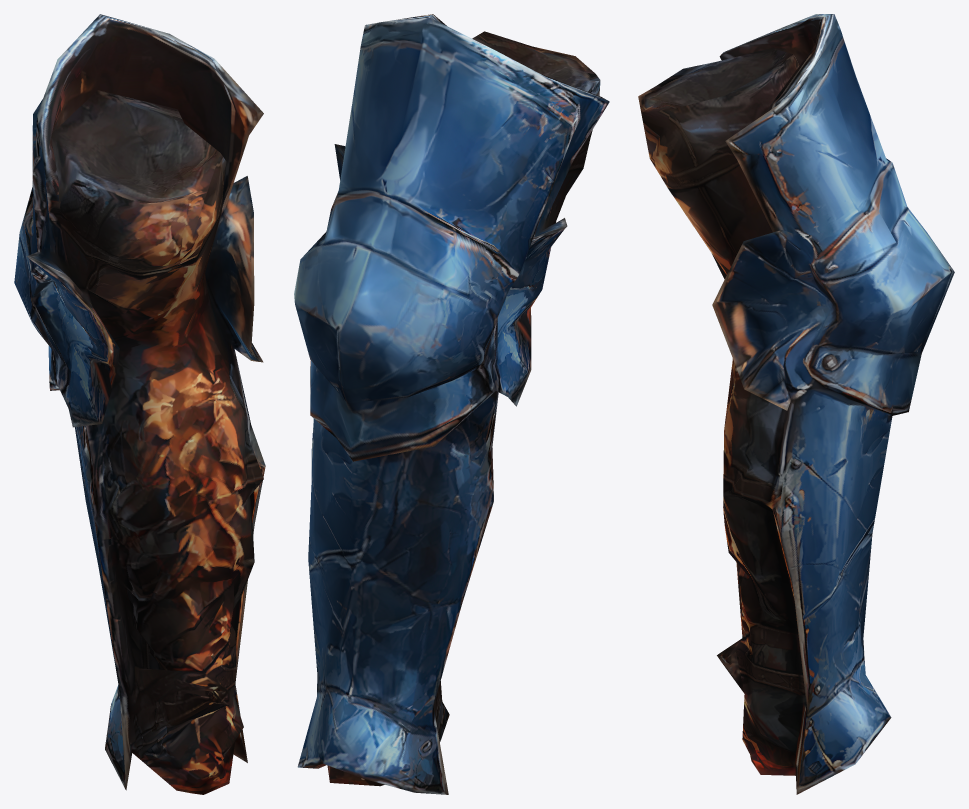
Rendered from greave-v3.1.glb.
The picture shows the model from 3 angles, left to right: view 1: azimuth 30°, elevation 25°; view 2: azimuth 150°, elevation 25°; view 3: azimuth 270°, elevation 25°; orthographic projection. The views are drawn at different scales.
Visible parts, largest first — view 1: tripo_node_f07d2b0b-5462-47d0-934e-d72ba3392ff1; view 2: tripo_node_f07d2b0b-5462-47d0-934e-d72ba3392ff1; view 3: tripo_node_f07d2b0b-5462-47d0-934e-d72ba3392ff1.
Part boxes in pixels (box(x1,y1,x2,y2)): tripo_node_f07d2b0b-5462-47d0-934e-d72ba3392ff1: box(14, 14, 265, 794); tripo_node_f07d2b0b-5462-47d0-934e-d72ba3392ff1: box(294, 14, 609, 794); tripo_node_f07d2b0b-5462-47d0-934e-d72ba3392ff1: box(638, 14, 954, 794).
Bounding box in the file's own units: 0.3405 × 1 × 0.3975.
Materials: 1 (1 with a texture image).
